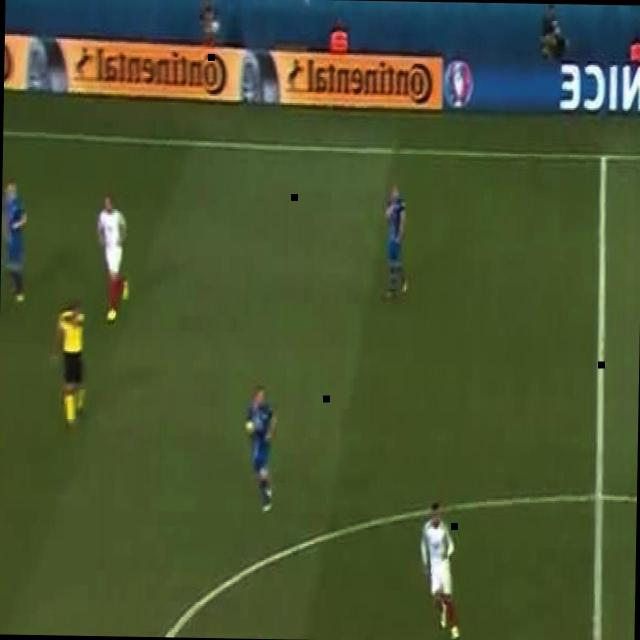player-white: (418, 501, 461, 640), (95, 198, 132, 324), (245, 381, 279, 517), (54, 304, 86, 428), (0, 181, 29, 305), (382, 184, 410, 300)
